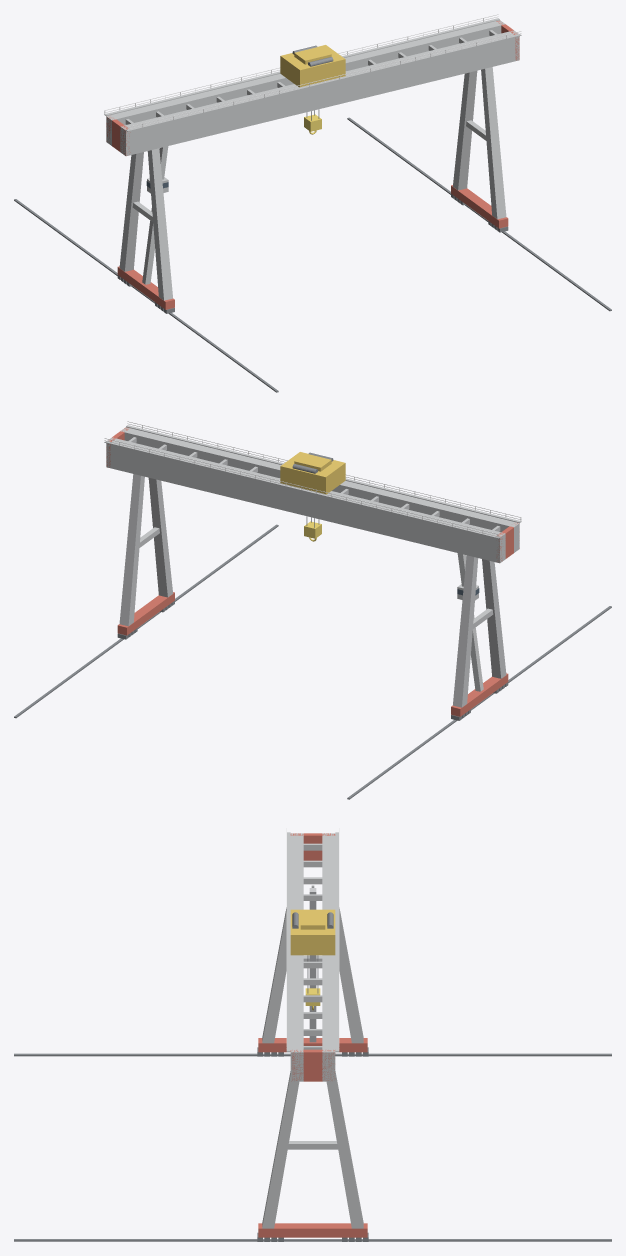
Rendered from 示例参数化模型.glb.
The picture shows the model from 3 angles, top to bottom: view 1: azimuth 30°, elevation 25°; view 2: azimuth 150°, elevation 25°; view 3: azimuth 270°, elevation 25°; orthographic projection. The views are drawn at different scales.
Visible parts, largest first — view 1: girder, leg_left, leg_right, trolley, rail_right, rail_left; view 2: girder, leg_left, leg_right, trolley, rail_right, rail_left; view 3: girder, leg_right, leg_left, trolley, rail_left, rail_right.
Boxes of the visible parts, x1,y1,x2,y2 form: girder: (104, 14, 521, 156); leg_left: (117, 146, 174, 313); leg_right: (451, 67, 508, 232); trolley: (280, 45, 345, 87); rail_right: (347, 117, 611, 311); rail_left: (14, 199, 278, 392); girder: (104, 421, 521, 563); leg_left: (451, 553, 508, 720); leg_right: (117, 474, 174, 639); trolley: (280, 452, 345, 494); rail_right: (14, 524, 278, 718); rail_left: (347, 606, 611, 799); girder: (286, 828, 339, 1081); leg_right: (257, 1071, 368, 1241); leg_left: (257, 888, 368, 1056); trolley: (290, 909, 335, 955); rail_left: (14, 1053, 611, 1056); rail_right: (14, 1239, 611, 1241).
Size of the model in its own units: 104 by 51 by 120.
